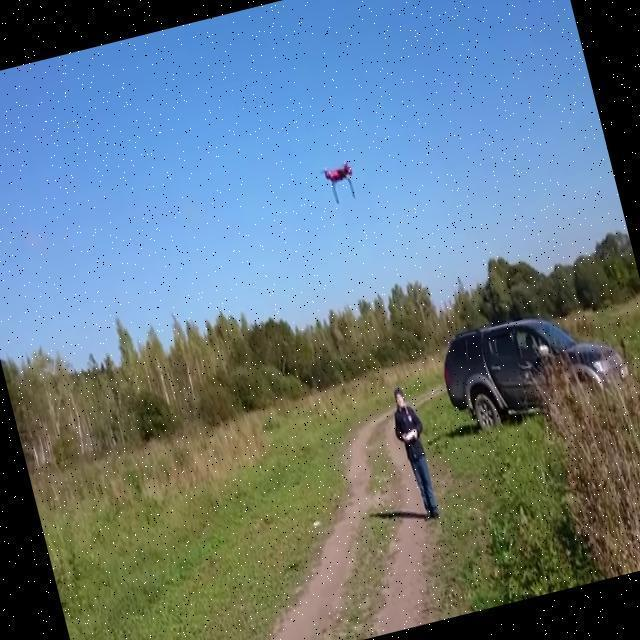Drons: (315, 156, 363, 208)
